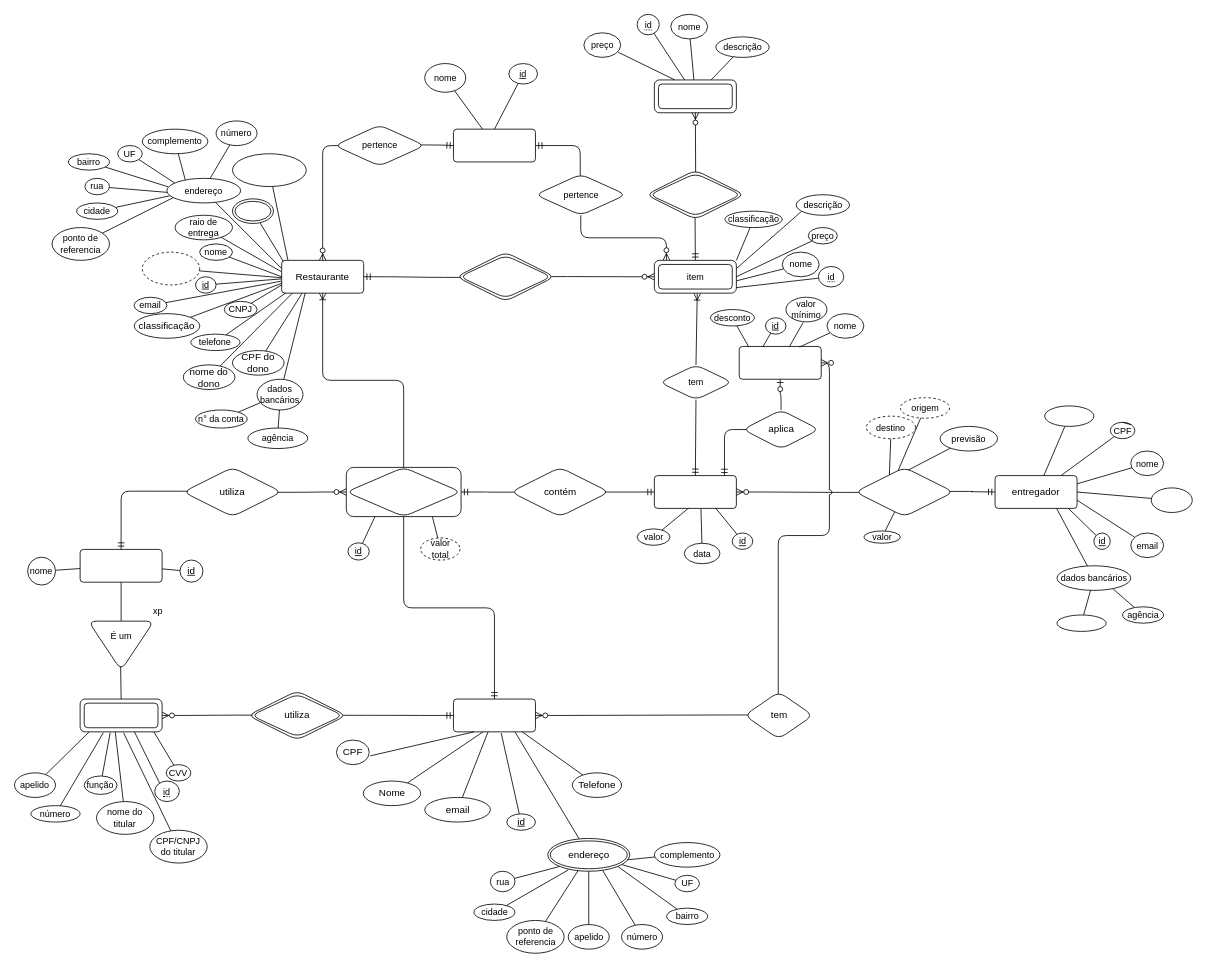
The diagram is 1207 pixels wide and 968 high, and some of its shapes have lost their labels. Each missing label, with the centre of its shape:
adicional: (695,96)
Cartão: (120,715)
Categoria: (494,145)
celular: (1171,499)
Cliente: (494,715)
CNH/RG: (1069,415)
compra: (403,492)
cupom: (779,362)
entrega: (904,492)
faixa de preço médio: (170,268)
forma de pagamento: (120,565)
fornece: (505,276)
horario de funcionamento: (269,170)
n° conta: (1081,622)
pedido: (695,491)
possui: (695,194)
selo: (252,210)
